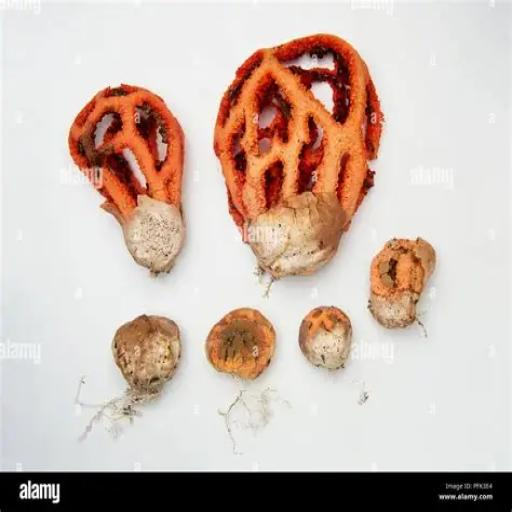Red Cage Fungus: (212, 22, 379, 283), (53, 85, 204, 286), (361, 230, 438, 343)
